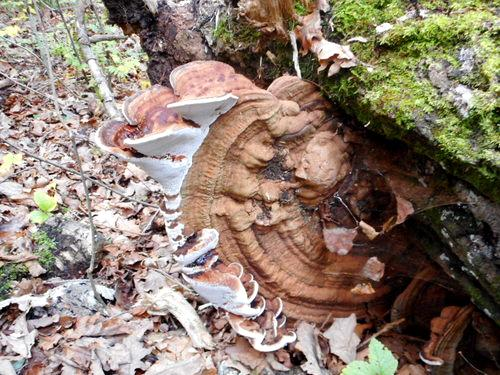Ganoderma - Fruit Body: (95, 58, 481, 354)
